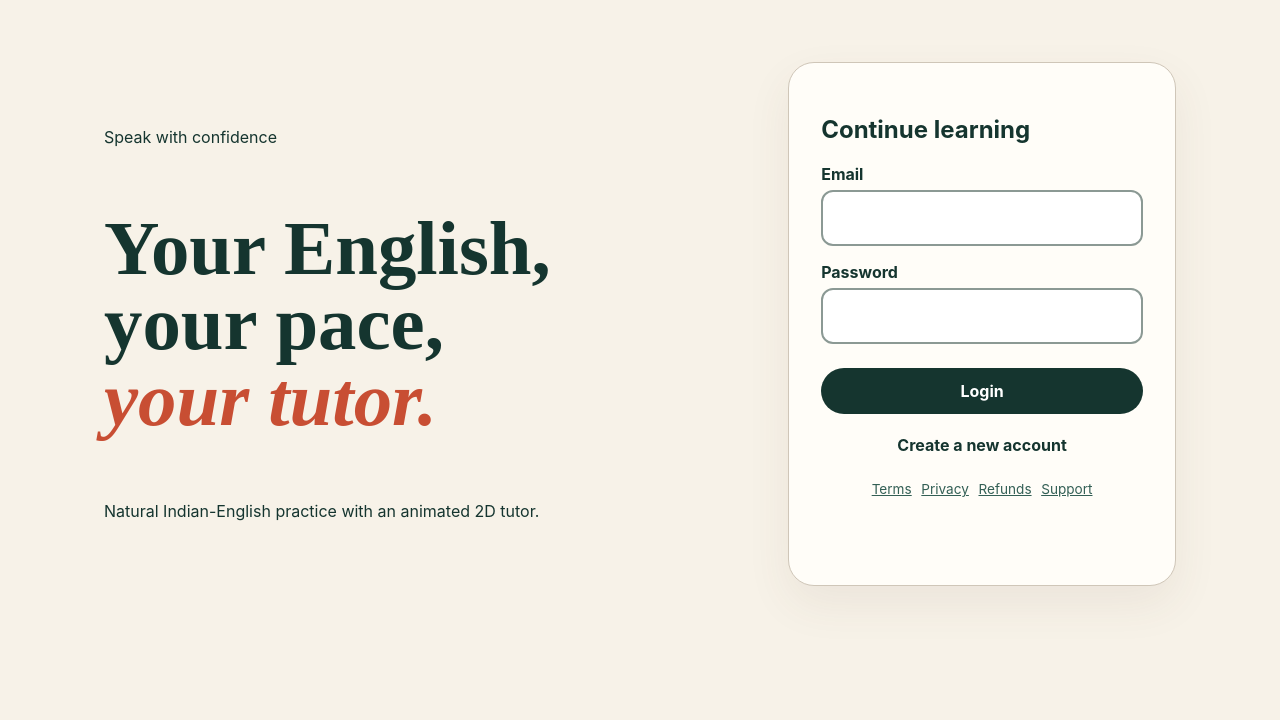
Test: learner routes › logs in safely
This screenshot has width=1280, height=720.
Type "review@example.invalid" into the field labelled "Email". click: (982, 218)
box: [821,190,1143,246]
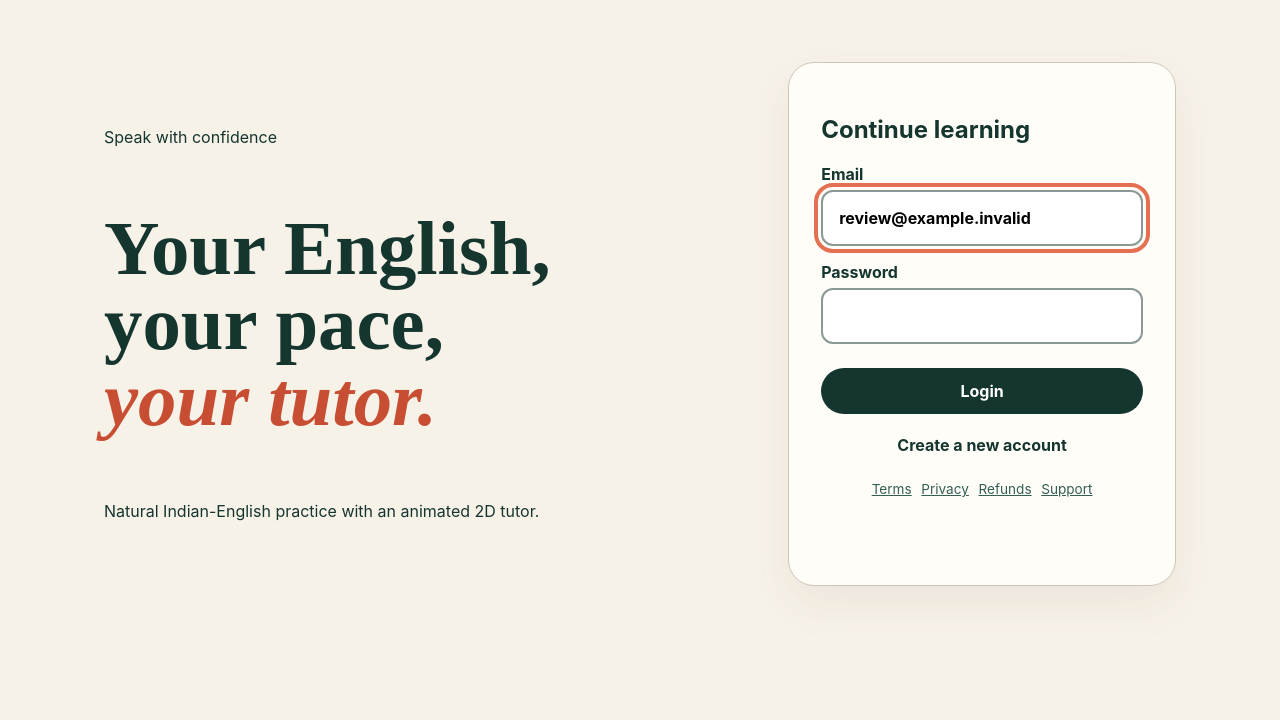
Type "StrongPassword123!" into the password field labelled "Password". click: (982, 316)
box: [821,288,1143,344]
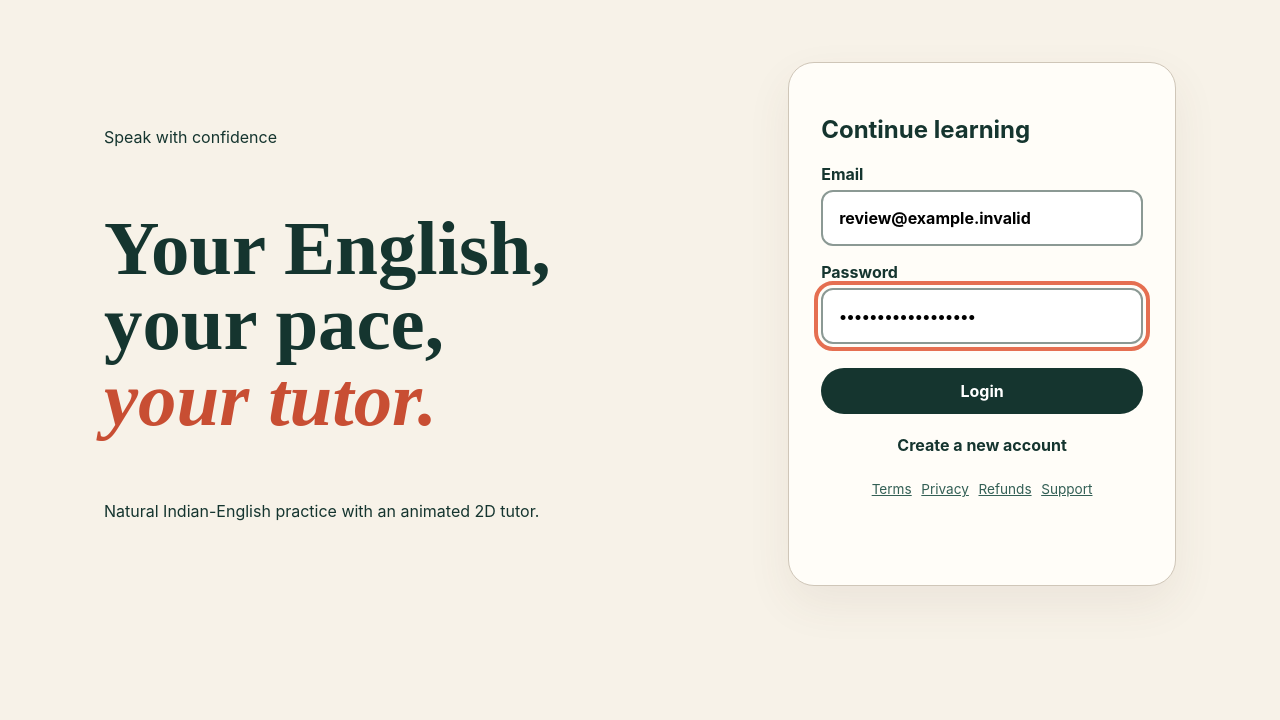
Click the button "Login". click: (982, 391)
box: [821,368,1143,414]
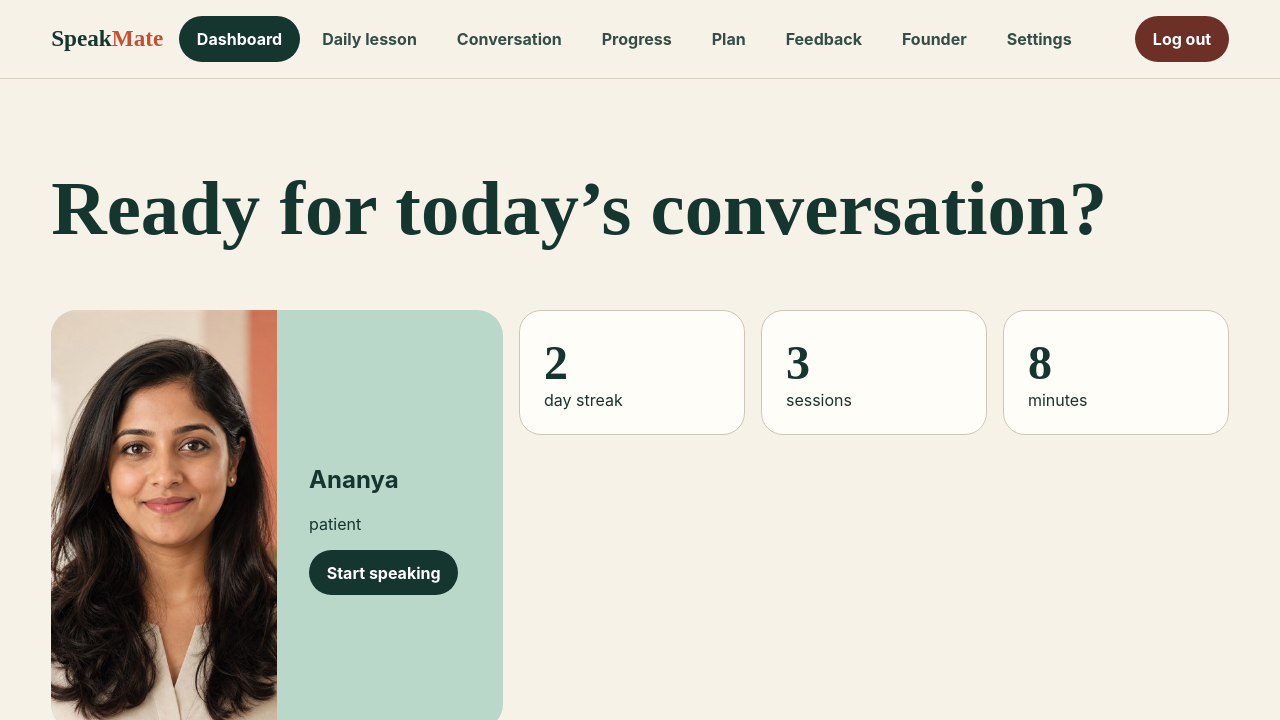
Check: the heading "Ready for today’s conversation?" is shown, box [51,171,1229,246]
